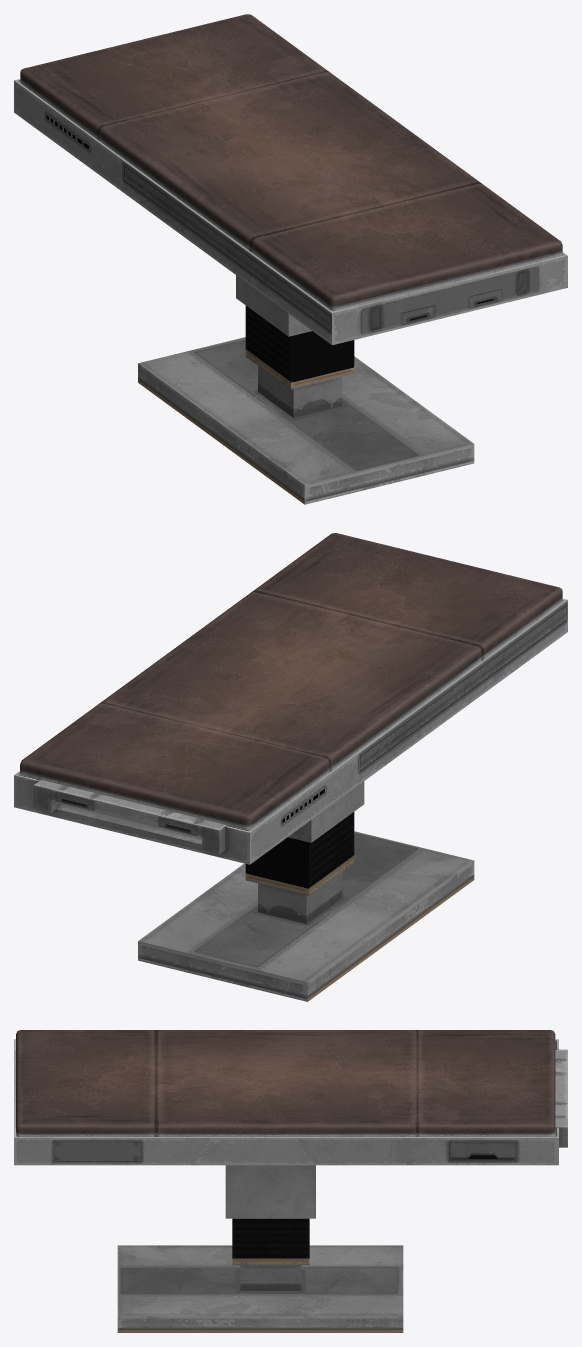
File: HH_Operating_Table_02.fbx
3 renders of one model, top to bottom at view 1: azimuth 30°, elevation 25°; view 2: azimuth 150°, elevation 25°; view 3: azimuth 270°, elevation 25°, orthographic. The views are drawn at different scales.
Parts seen in each view (by area): view 1: HH_Operating_Table_02_LOD0; view 2: HH_Operating_Table_02_LOD0; view 3: HH_Operating_Table_02_LOD0.
Part boxes in pixels (bbox=[...]): HH_Operating_Table_02_LOD0: bbox=[14, 14, 567, 504]; HH_Operating_Table_02_LOD0: bbox=[14, 533, 567, 1001]; HH_Operating_Table_02_LOD0: bbox=[14, 1030, 567, 1332].
Size of what is drawn, in the model's own units: 84.08 by 87.71 by 200.
